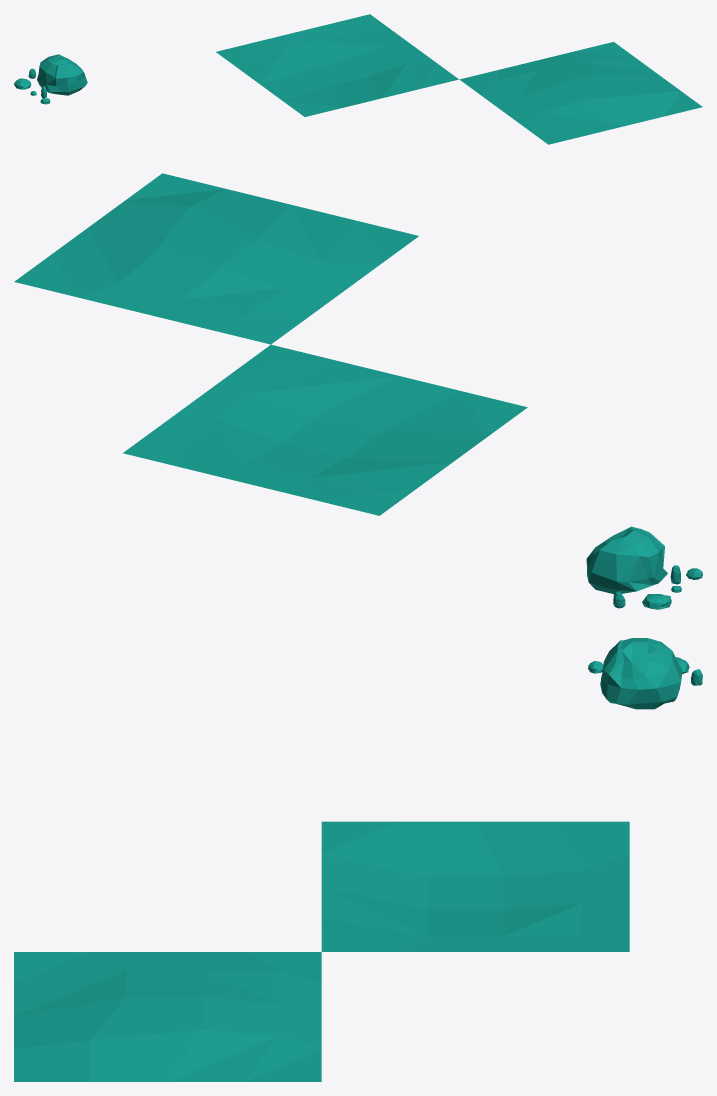
Rendered from s_groundAndRock.fbx.
The picture shows the model from 3 angles, top to bottom: view 1: azimuth 30°, elevation 25°; view 2: azimuth 150°, elevation 25°; view 3: azimuth 270°, elevation 25°; orthographic projection. The views are drawn at different scales.
Visible parts, largest first — view 1: groundTile_bump, groundTile_divot, rockPile; view 2: groundTile_bump, groundTile_divot, rockPile; view 3: groundTile_divot, groundTile_bump, rockPile.
Boxes of the visible parts, box(x1,y1,x2,y2) form: groundTile_bump: box(459, 42, 702, 144); groundTile_divot: box(216, 14, 458, 116); rockPile: box(14, 54, 87, 104); groundTile_bump: box(14, 173, 418, 344); groundTile_divot: box(123, 344, 527, 515); rockPile: box(586, 526, 702, 609); groundTile_divot: box(321, 821, 629, 951); groundTile_bump: box(14, 952, 321, 1081); rockPile: box(588, 638, 702, 709).
Size of the model in its own units: 3.21 by 0.2108 by 2.24.
